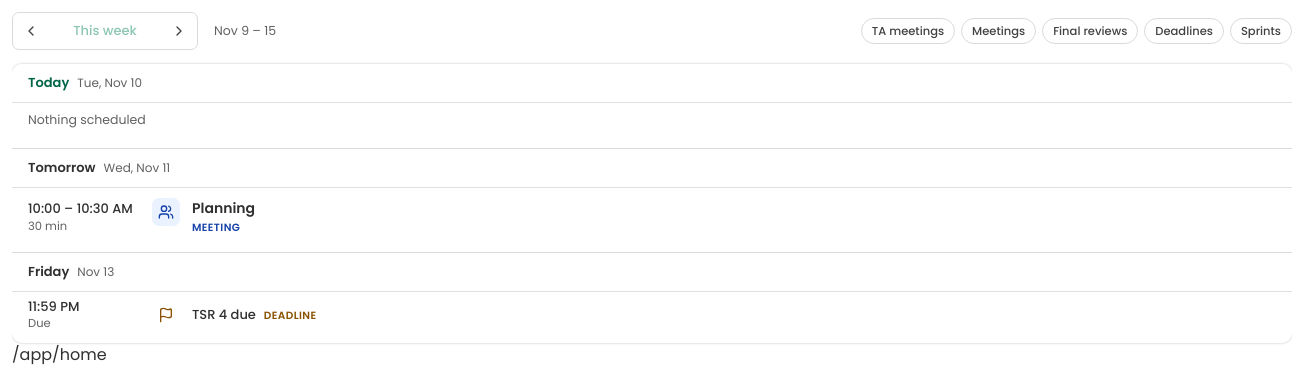
Test case: ScheduleAgenda › narrows the week by kind and clears the filters
Click the button "Deadlines" at (1184, 31), box top-left (1144, 18), bottom-right (1224, 44)
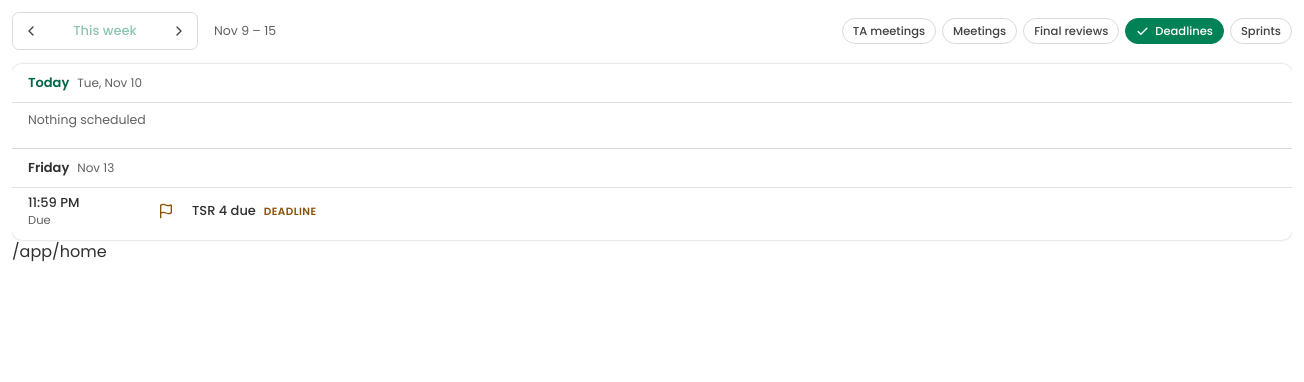
Check: the text "TSR 4 due" is shown, box top-left (192, 202), bottom-right (256, 220)
Check: the text "Planning" is gone
Click the button "Deadlines" at (1175, 31), box top-left (1125, 18), bottom-right (1224, 44)
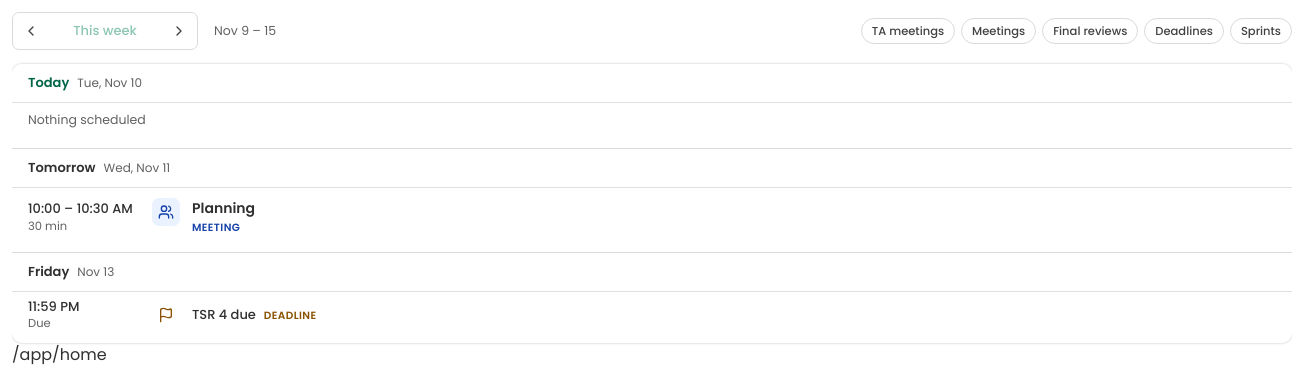
Click the button "Final reviews" at (1090, 31), box top-left (1042, 18), bottom-right (1138, 44)
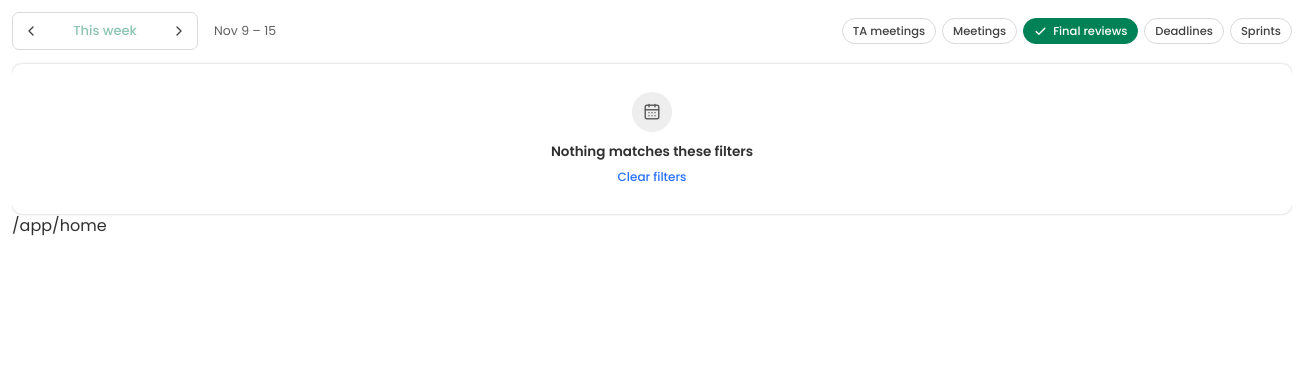
Check: the text "Nothing matches these filters" is shown, box top-left (551, 142), bottom-right (753, 162)
Click the button "Clear filters" at (652, 177), box top-left (618, 168), bottom-right (686, 186)
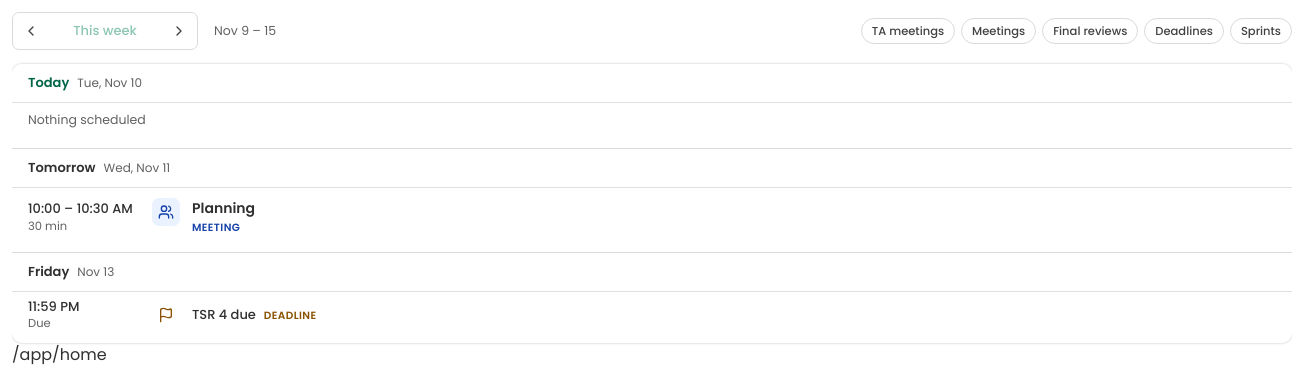
Check: the text "Planning" is shown, box top-left (192, 199), bottom-right (255, 218)
Check: the text "TSR 4 due" is shown, box top-left (192, 306), bottom-right (256, 323)
